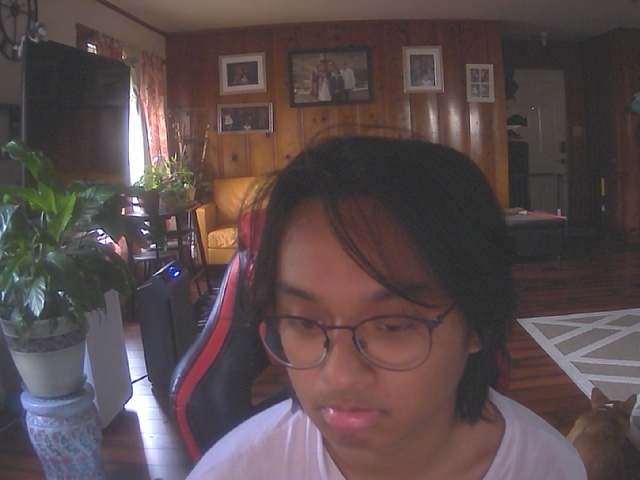sad: (252, 154, 502, 456)
